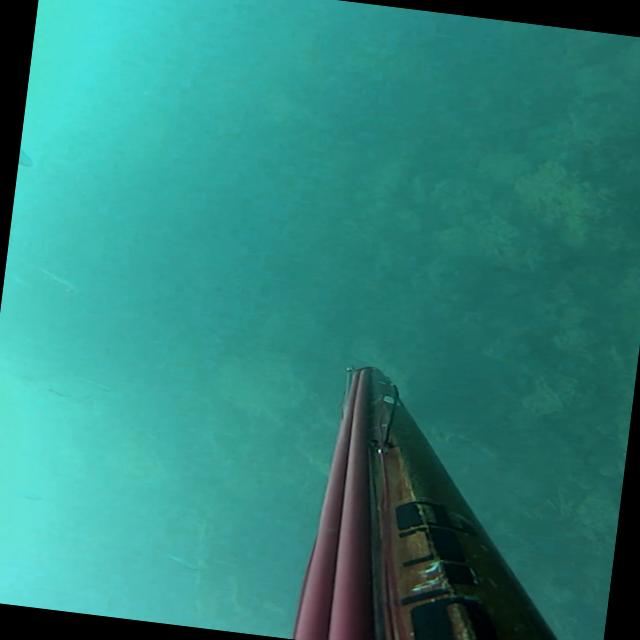Balon Baligi: (38, 270, 80, 294), (163, 552, 198, 570), (76, 376, 111, 392), (3, 486, 42, 499), (16, 148, 34, 168), (46, 386, 70, 397)
